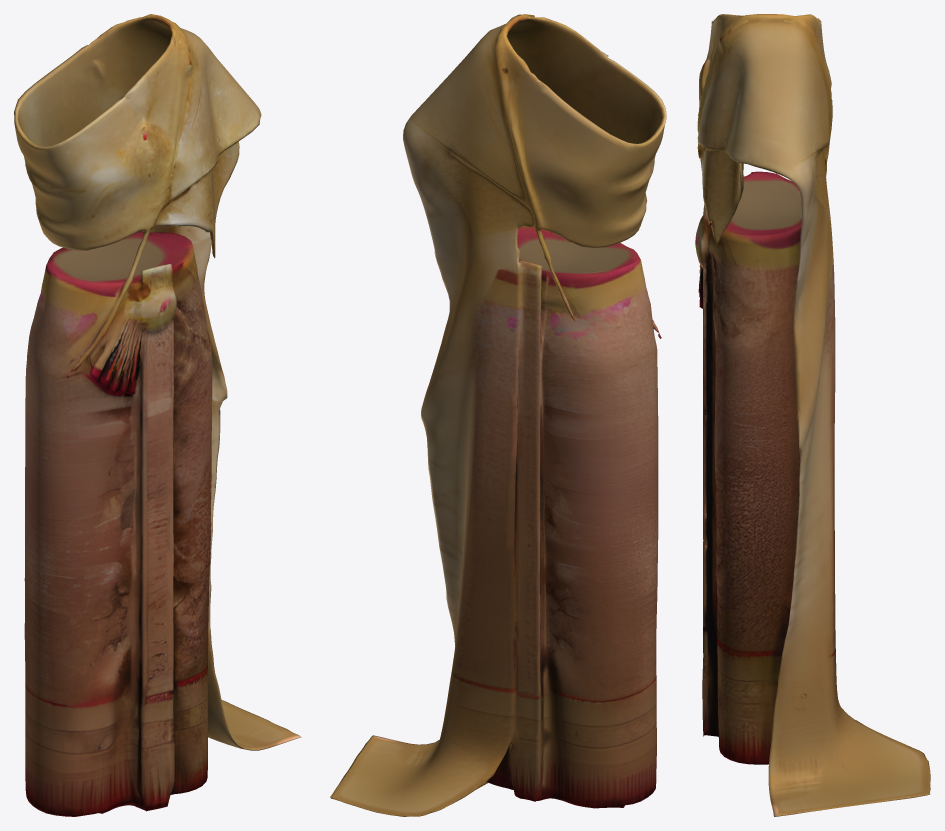
File: Thai_dress_2.glb
The picture shows the model from 3 angles, left to right: view 1: azimuth 30°, elevation 25°; view 2: azimuth 150°, elevation 25°; view 3: azimuth 270°, elevation 25°; orthographic projection. The views are drawn at different scales.
Parts seen in each view (by area): view 1: model; view 2: model; view 3: model.
Part boxes in pixels (box(x1,y1,x2,y2)): model: box(14, 14, 301, 816); model: box(330, 14, 666, 816); model: box(695, 14, 930, 816).
Bounding box in the file's own units: 0.6536 × 1.7 × 0.4916.
1 material, 1 textured.
